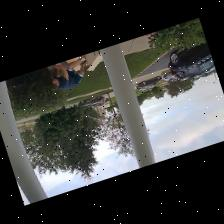person: (51, 55, 86, 88)
